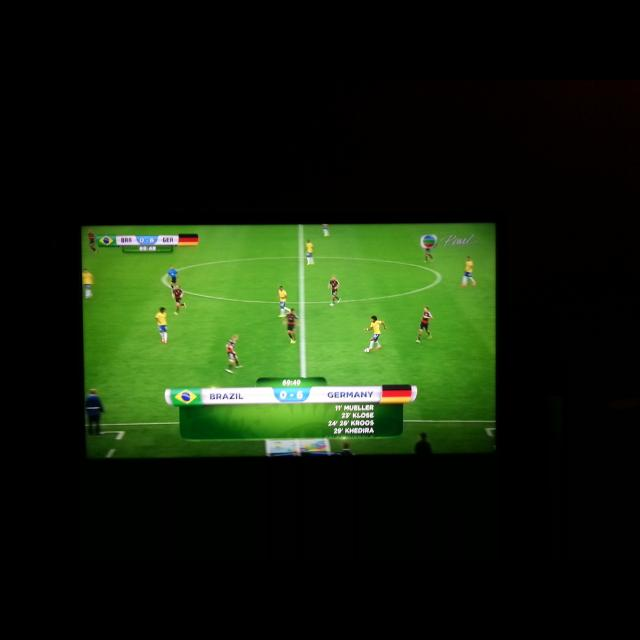Football: (363, 348, 367, 352)
